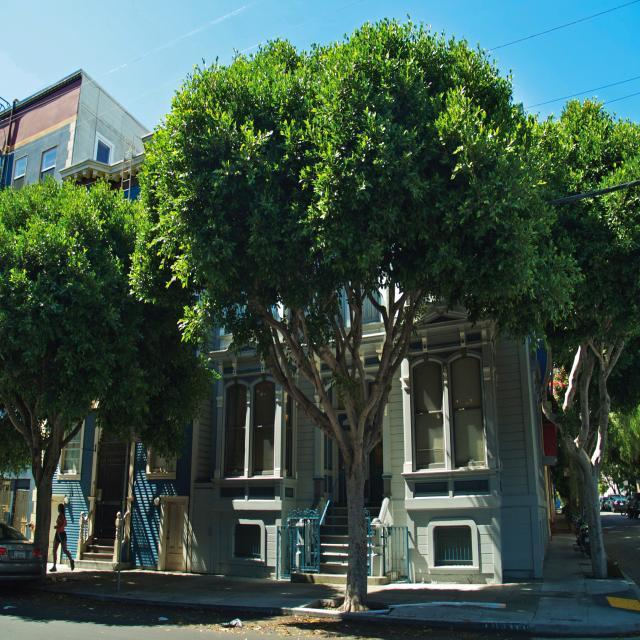Tree: (120, 13, 585, 626), (1, 174, 217, 590), (480, 94, 640, 582), (603, 385, 640, 522)
